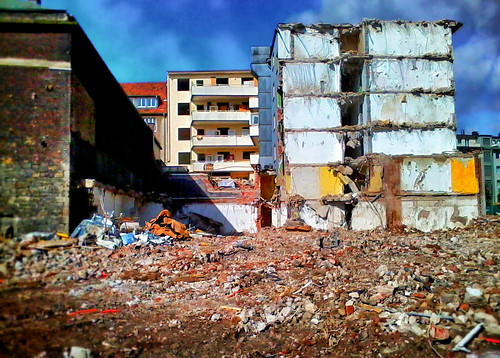building: (267, 16, 466, 241), (1, 20, 164, 236), (157, 59, 262, 166)
sky: (122, 1, 500, 70)
trash: (1, 222, 483, 358)
